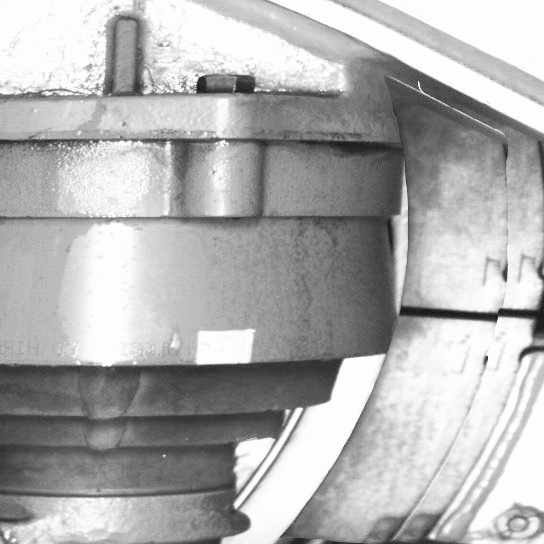ClosedKnifeSwitch: (265, 137, 540, 541)
